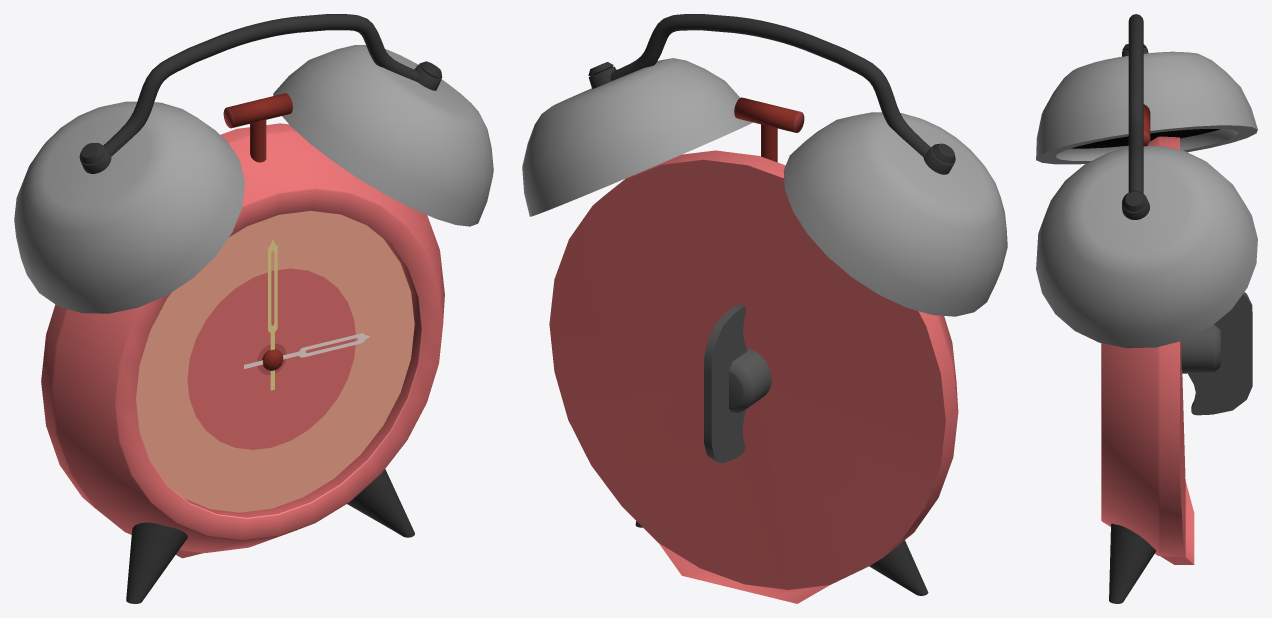
The model's file is 3d_AlarmClock.fbx.
3 views of the same model, side by side, from view 1: azimuth 30°, elevation 25°; view 2: azimuth 150°, elevation 25°; view 3: azimuth 270°, elevation 25° (orthographic). The views are drawn at different scales.
Visible parts, largest first — view 1: 3d_AlarmClock, 3d_AlarmClockDecal, 3d_AlarmClockHammer, 3d_AlarmClockMHand, 3d_AlarmClockHHand; view 2: 3d_AlarmClock, 3d_AlarmClockKnob, 3d_AlarmClockHammer; view 3: 3d_AlarmClock, 3d_AlarmClockKnob.
Part boxes in pixels (x1,y1,x2,y2): 3d_AlarmClock: (14, 14, 493, 603); 3d_AlarmClockDecal: (136, 211, 414, 512); 3d_AlarmClockHammer: (223, 93, 292, 162); 3d_AlarmClockMHand: (268, 239, 277, 390); 3d_AlarmClockHHand: (244, 333, 369, 368); 3d_AlarmClock: (522, 14, 1007, 603); 3d_AlarmClockKnob: (704, 304, 771, 463); 3d_AlarmClockHammer: (734, 97, 804, 162); 3d_AlarmClock: (1036, 14, 1257, 603); 3d_AlarmClockKnob: (1181, 292, 1252, 415).
Size of the model in its own units: 0.2219 by 0.2541 by 0.1032.
